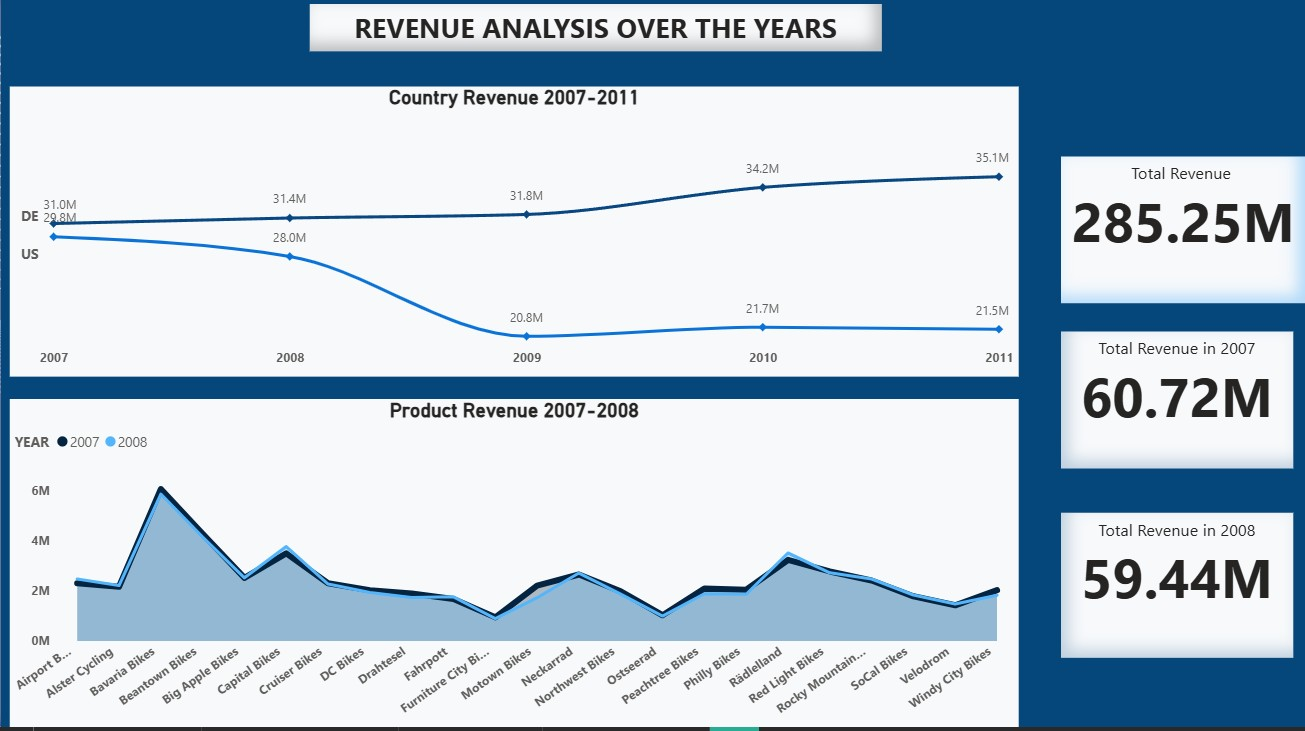

This screenshot's page, from the dashboard's own definition file:
{"tool":"powerbi","page":{"name":"Revenue Analysis","canvas":[1280,720],"ordinal":0},"visuals":[{"type":"lineChart","title":"Country Revenue 2007-2011","fields":{"Category":["Sales.Date.Variation.Date Hierarchy.Year"],"Series":["Sales.Country"],"Y":["Sum(Sales.Revenue USD)"]},"box":[8.2,90.6,990.7,269],"z":0},{"type":"areaChart","title":"Product Revenue 2007-2008","fields":{"Category":["Sales.CustomerDescr"],"Series":["Sales.YEAR"],"Y":["Sum(Sales.Revenue USD)"]},"box":[8.2,397.9,990.7,322.5],"z":1000},{"type":"actionButton","box":[0,0,100,40],"z":2000},{"type":"textbox","box":[1040.1,509.1,227.8,142.7],"z":3000},{"type":"textbox","box":[1040.1,330.7,227.8,134.5],"z":4000},{"type":"textbox","box":[1040.1,159.2,240.1,144.1],"z":5000},{"type":"textbox","box":[303.3,9.6,561.2,46.7],"z":6000}]}

Visuals, with their boxes in screenshot pixels (x1, y1, x2, y2), scaled from the page's 1280x720 canvas onto the 1305x731 screenshot:
"Country Revenue 2007-2011" lineChart: <box>8,92,1018,365</box>
"Product Revenue 2007-2008" areaChart: <box>8,404,1018,730</box>
actionButton: <box>0,0,102,41</box>
textbox: <box>1060,517,1293,662</box>
textbox: <box>1060,336,1293,472</box>
textbox: <box>1060,162,1304,308</box>
textbox: <box>309,10,881,57</box>
